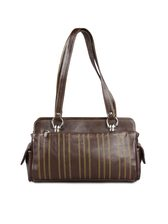bag: (20, 25, 154, 188)
